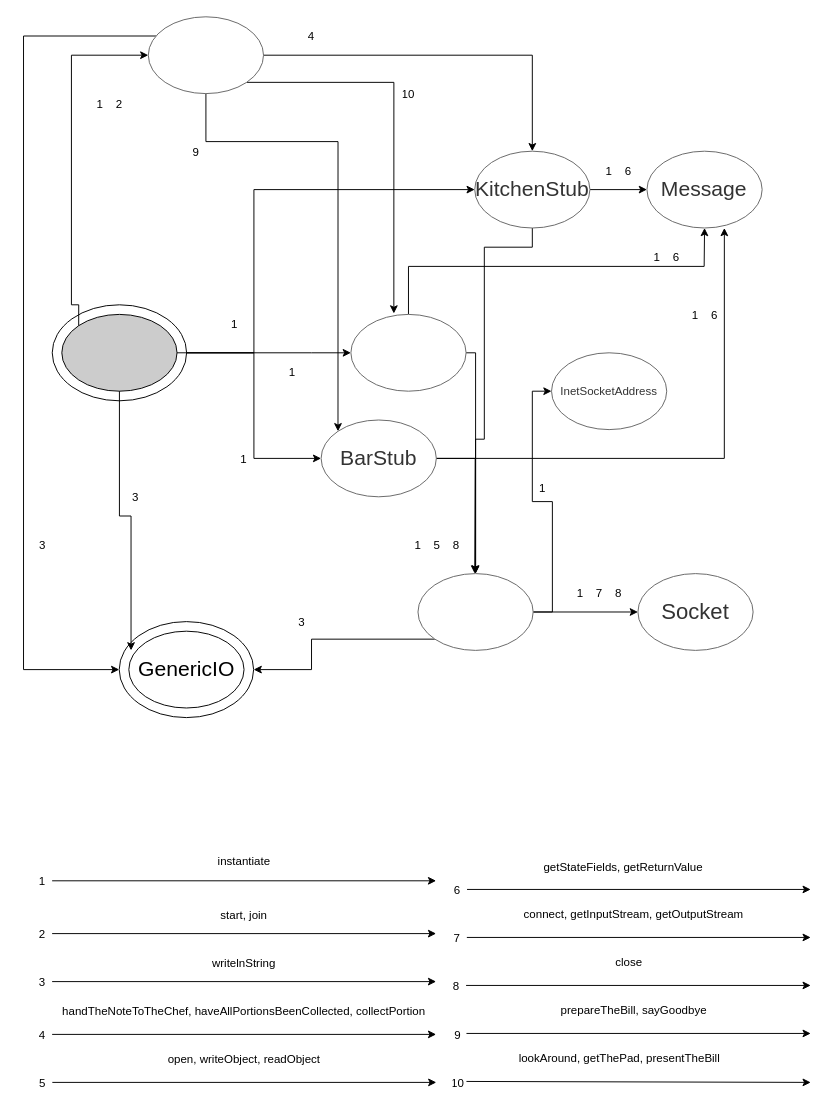
The diagram is 835 pixels wide and 1109 high, and some of its shapes have lost their labels. Here are the shapes that lost their labels. From the top down, the centre of each, then its label:
[205,55]: Waiter
[119,352]: WaiterMain
[408,352]: TableStub
[475,611]: CommunicationChannel
